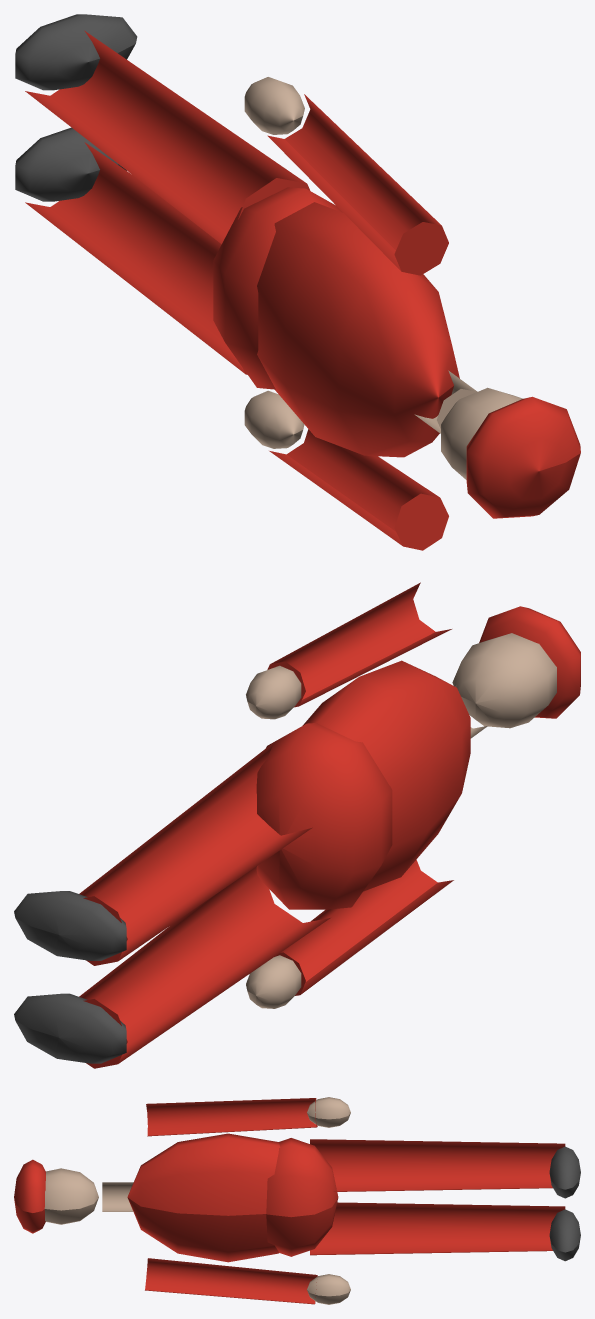
The model's file is person_plain_stand.glb.
3 renders of one model, top to bottom at view 1: azimuth 30°, elevation 25°; view 2: azimuth 150°, elevation 25°; view 3: azimuth 270°, elevation 25°, orthographic. The views are drawn at different scales.
Size of the model in its own units: 0.321 by 0.7197 by 1.8.
Materials: 3 (1 with a texture image).
